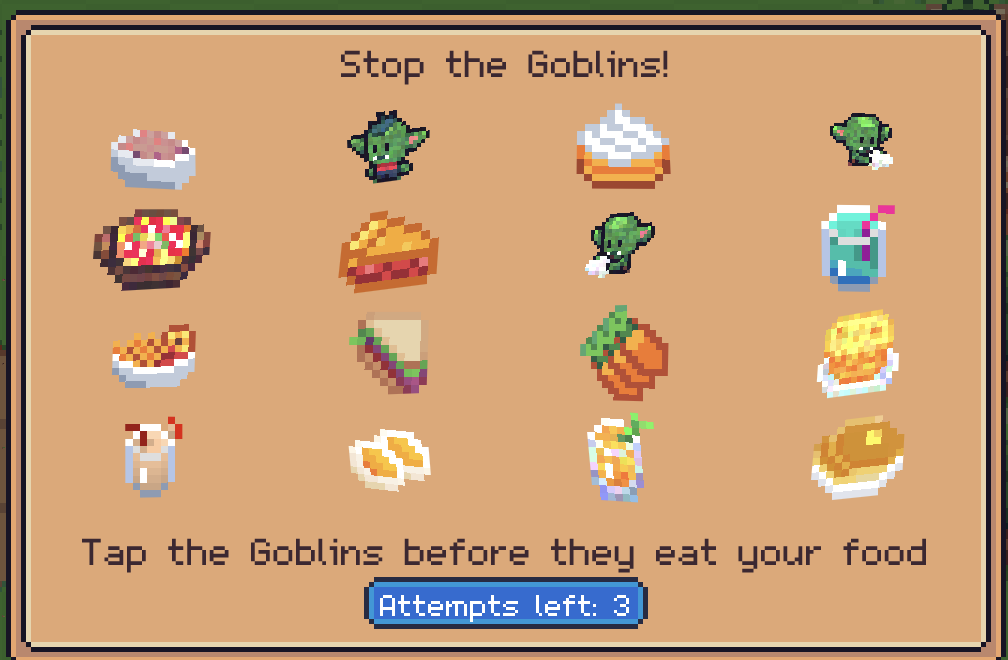capcha_goblin: (342, 107, 429, 187), (584, 209, 657, 279), (830, 110, 895, 170)
